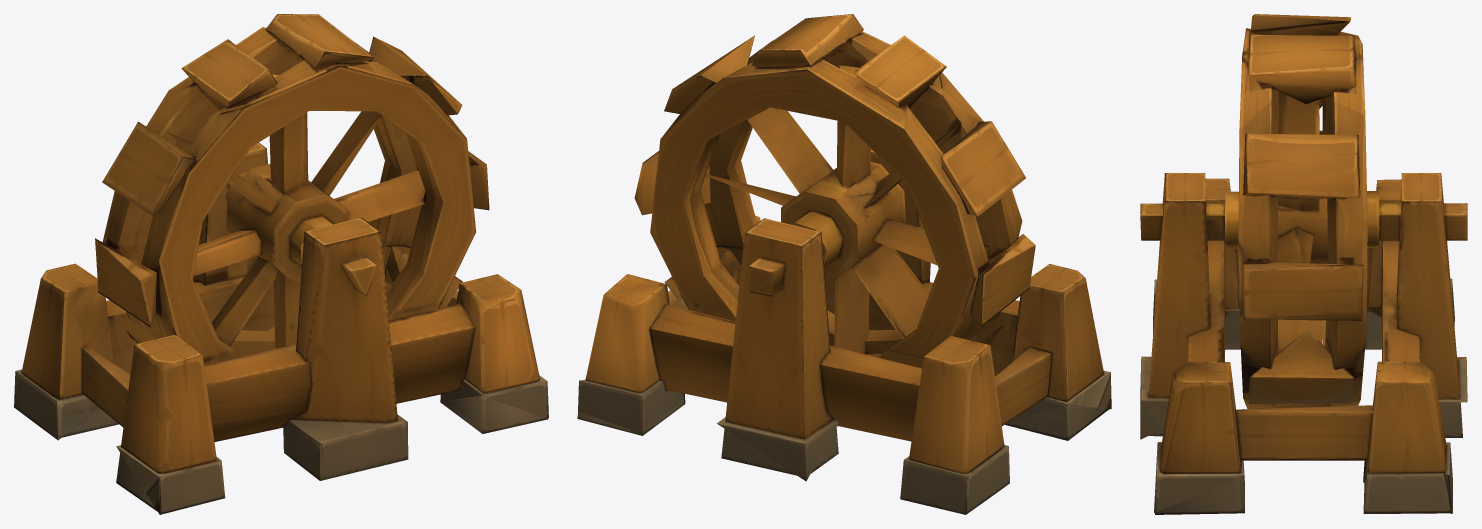
File: WoodenWaterWheel.fbx
The picture shows the model from 3 angles, left to right: view 1: azimuth 30°, elevation 25°; view 2: azimuth 150°, elevation 25°; view 3: azimuth 270°, elevation 25°; orthographic projection. The views are drawn at different scales.
Visible parts, largest first — view 1: WoodenWaterWheel; view 2: WoodenWaterWheel; view 3: WoodenWaterWheel.
Boxes of the visible parts, bbox=[...] form: WoodenWaterWheel: bbox=[14, 14, 548, 514]; WoodenWaterWheel: bbox=[577, 14, 1111, 514]; WoodenWaterWheel: bbox=[1140, 14, 1467, 514].
Size of the model in its own units: 4.32 by 4 by 3.04.
